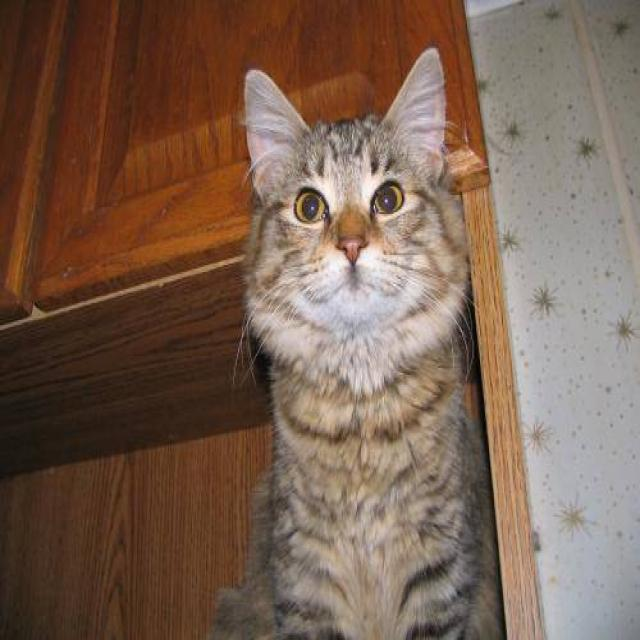cat: (204, 44, 506, 638)
